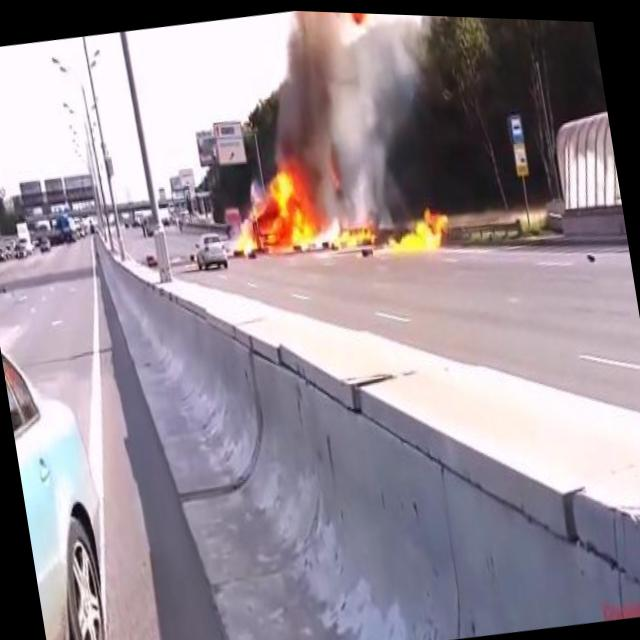fire: (223, 150, 329, 264), (376, 201, 464, 258), (326, 216, 380, 251)
